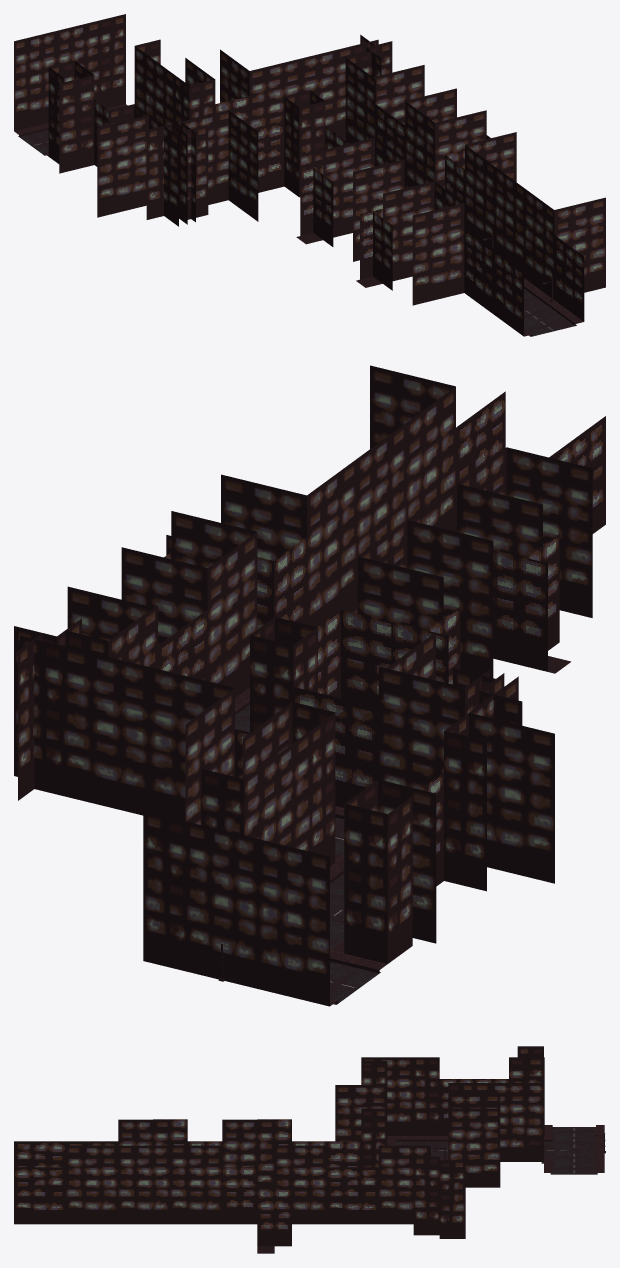
Rendered from Buuildings_seperate_fbx.fbx.
The picture shows the model from 3 angles, top to bottom: view 1: azimuth 30°, elevation 25°; view 2: azimuth 150°, elevation 25°; view 3: azimuth 270°, elevation 25°; orthographic projection. The views are drawn at different scales.
Parts seen in each view (by area): view 1: pPlane22 (×4), pPlane42 (×3), pPlane24 (×3), pPlane13 (×2), pPlane82, pPlane84, pPlane90, pPlane86, pPlane43 (×2), pPlane83, pPlane79, pPlane28 (+31 smaller); view 2: pPlane42 (×2), pPlane22 (×4), pPlane43 (×2), pPlane90, pPlane84, pPlane24 (×3), pPlane82, pPlane4 (×2), pPlane73, pPlane13 (×2), pPlane37 (×2), pPlane88 (+33 smaller); view 3: pPlane22 (×3), pPlane24 (×2), pPlane4 (×2), pPlane21, pPlane77, pPlane25, pPlane17 (×2), pPlane48, pPlane42, pPlane79, pPlane45, pPlane68 (+17 smaller).
Boxes of the visible parts, <box> form: pPlane22 (×4): <box>181,57,554,299</box>; pPlane42 (×3): <box>57,20,352,226</box>; pPlane24 (×3): <box>254,104,584,321</box>; pPlane13 (×2): <box>383,110,486,281</box>; pPlane82: <box>412,203,464,305</box>; pPlane84: <box>97,115,148,217</box>; pPlane90: <box>14,31,56,131</box>; pPlane86: <box>59,75,94,173</box>; pPlane43 (×2): <box>100,14,187,224</box>; pPlane83: <box>554,197,605,292</box>; pPlane79: <box>228,110,258,221</box>; pPlane28: <box>323,137,374,237</box>; pPlane42 (×2): <box>63,646,258,988</box>; pPlane22 (×4): <box>108,386,464,789</box>; pPlane43 (×2): <box>20,635,186,971</box>; pPlane90: <box>258,839,329,1006</box>; pPlane84: <box>469,713,554,883</box>; pPlane24 (×3): <box>158,391,505,807</box>; pPlane82: <box>506,447,592,617</box>; pPlane4 (×2): <box>207,447,506,697</box>; pPlane73: <box>407,520,493,677</box>; pPlane13 (×2): <box>171,483,542,567</box>; pPlane37 (×2): <box>250,635,335,866</box>; pPlane88: <box>344,803,387,963</box>; pPlane22 (×3): <box>66,1145,430,1224</box>; pPlane24 (×2): <box>14,1167,378,1224</box>; pPlane4 (×2): <box>118,1119,326,1224</box>; pPlane21: <box>118,1145,170,1224</box>; pPlane77: <box>448,1108,500,1187</box>; pPlane25: <box>222,1119,274,1189</box>; pPlane17 (×2): <box>153,1119,291,1246</box>; pPlane48: <box>474,1083,526,1161</box>; pPlane42: <box>361,1057,413,1135</box>; pPlane79: <box>335,1085,387,1141</box>; pPlane45: <box>413,1156,439,1235</box>; pPlane68: <box>439,1160,465,1238</box>.
Bounding box in the file's own units: 76 × 20.44 × 136.
9 materials, 9 textured.
